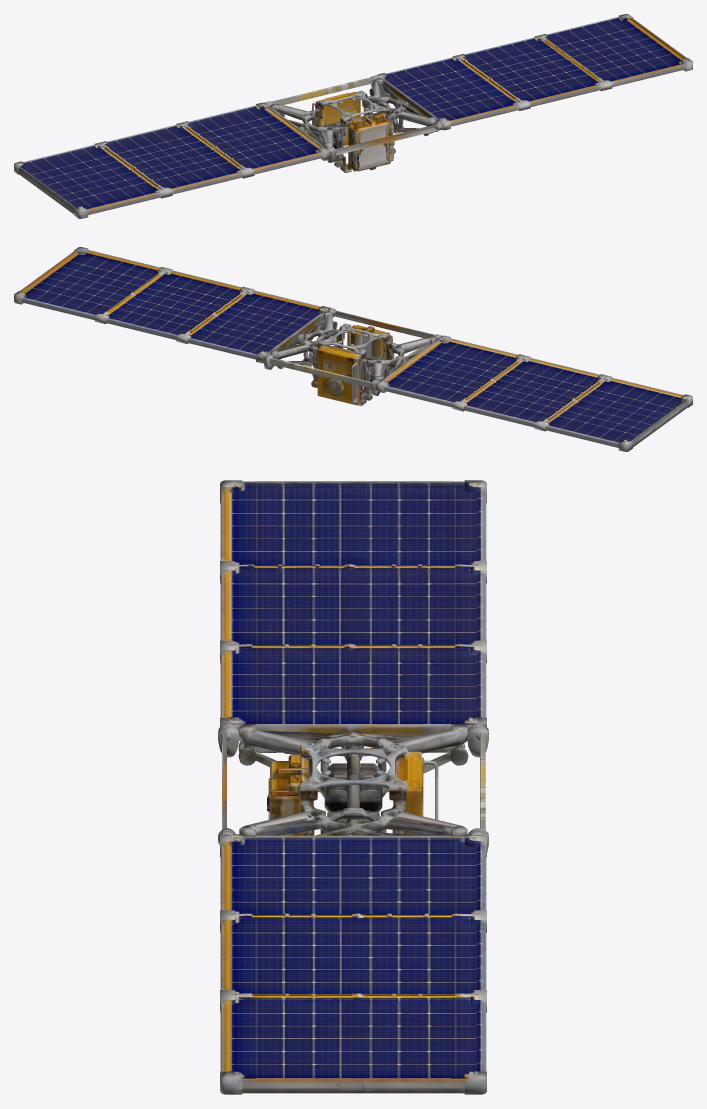
Rendered from sat2_3.fbx.
3 views of the same model, one above another, from view 1: azimuth 30°, elevation 25°; view 2: azimuth 150°, elevation 25°; view 3: azimuth 270°, elevation 25° (orthographic). The views are drawn at different scales.
Visible parts, largest first — view 1: tripo_node_b3a153ae; view 2: tripo_node_b3a153ae; view 3: tripo_node_b3a153ae.
Part boxes in pixels (x1=…): tripo_node_b3a153ae: x1=14, y1=14, x2=692, y2=218; tripo_node_b3a153ae: x1=14, y1=247, x2=692, y2=451; tripo_node_b3a153ae: x1=218, y1=480, x2=488, y2=1094.
Bounding box in the file's own units: 0.9995 × 0.0835 × 0.1909.
